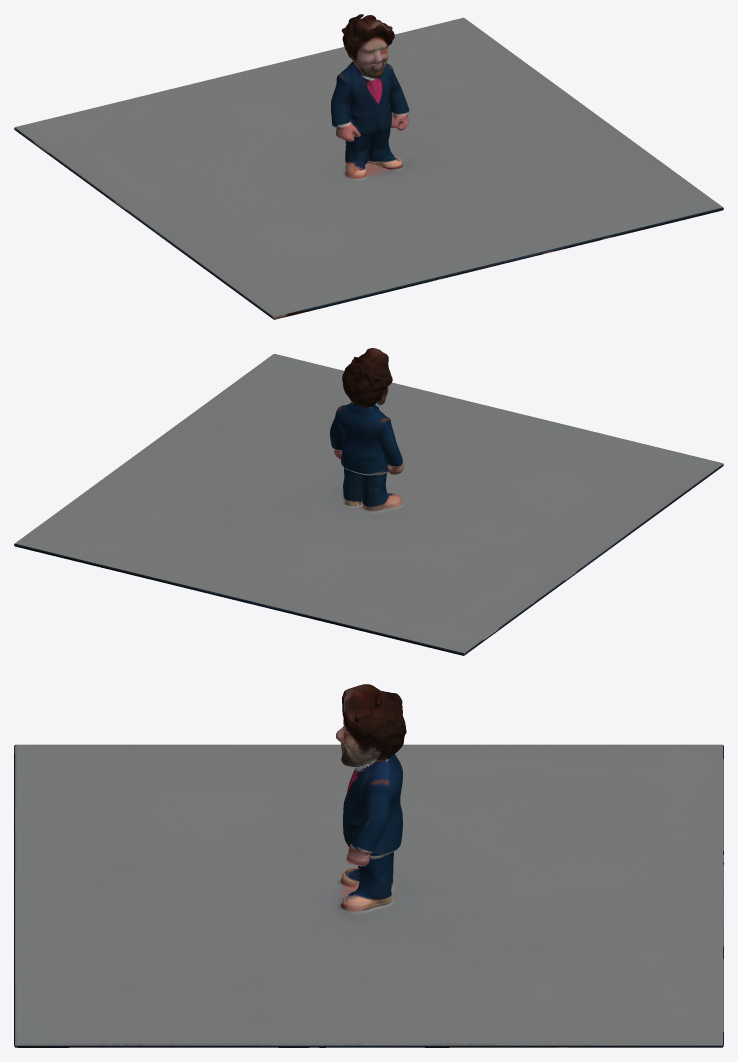
The model's file is raw_textured.glb.
3 views of the same model, one above another, from view 1: azimuth 30°, elevation 25°; view 2: azimuth 150°, elevation 25°; view 3: azimuth 270°, elevation 25° (orthographic). The views are drawn at different scales.
Parts seen in each view (by area): view 1: textured_mesh.obj; view 2: textured_mesh.obj; view 3: textured_mesh.obj.
Part boxes in pixels (left/top/right/bottom): textured_mesh.obj: left=14, top=14, right=723, bottom=319; textured_mesh.obj: left=14, top=348, right=723, bottom=655; textured_mesh.obj: left=14, top=684, right=723, bottom=1047.
Size of the model in its own units: 1.99 by 0.6473 by 1.99.
Materials: 1 (1 with a texture image).
